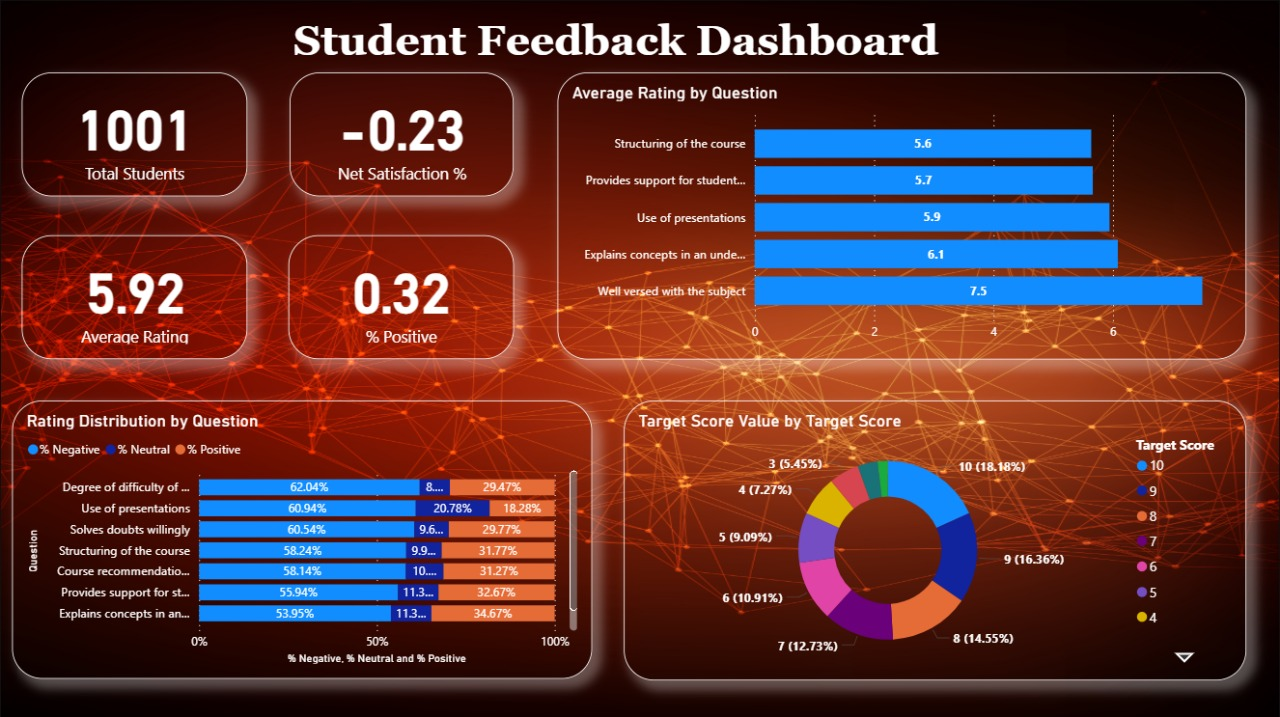

The page's visual inventory and layout, read from the dashboard file:
{"tool":"powerbi","page":{"name":"Page 1","canvas":[1280,720],"ordinal":0},"visuals":[{"type":"textbox","box":[288.3,10.9,702.1,61.5],"z":0},{"type":"card","fields":{"Values":["measure.Total Students"]},"box":[21.7,72.4,225.6,124.3],"z":1000},{"type":"card","fields":{"Values":["measure.Net Satisfaction %"]},"box":[289.5,72.4,224.4,124.3],"z":2000},{"type":"card","fields":{"Values":["measure.Average Rating"]},"box":[21.7,235.3,225.6,124.3],"z":3000},{"type":"card","fields":{"Values":["measure.% Positive"]},"box":[288.3,235.3,225.6,124.3],"z":4000},{"type":"hundredPercentStackedBarChart","title":"Rating Distribution by Question","fields":{"Category":["Feedback.Question"],"Y":["measure.% Negative","measure.% Neutral","measure.% Positive"]},"box":[12.1,400.5,580.3,278.7],"z":5000},{"type":"clusteredBarChart","title":"Average Rating by Question","fields":{"Category":["Feedback.Question"],"Y":["measure.Question Average"]},"box":[557.4,72.4,688.9,287.1],"z":6000},{"type":"donutChart","fields":{"Category":["Target Score.Target Score"],"Y":["Target Score.Target Score Value"]},"box":[623.7,400.5,622.5,279.9],"z":7000}]}

Visuals, with their boxes in screenshot pixels (x1, y1, x2, y2), scaled from the page's 1280x720 canvas onto the 1280x717 screenshot:
textbox: detection(288, 11, 990, 72)
card - measure.Total Students: detection(22, 72, 247, 196)
card - measure.Net Satisfaction %: detection(290, 72, 514, 196)
card - measure.Average Rating: detection(22, 234, 247, 358)
card - measure.% Positive: detection(288, 234, 514, 358)
"Rating Distribution by Question" hundredPercentStackedBarChart: detection(12, 399, 592, 676)
"Average Rating by Question" clusteredBarChart: detection(557, 72, 1246, 358)
donutChart - Target Score.Target Score x Target Score.Target Score Value: detection(624, 399, 1246, 678)
